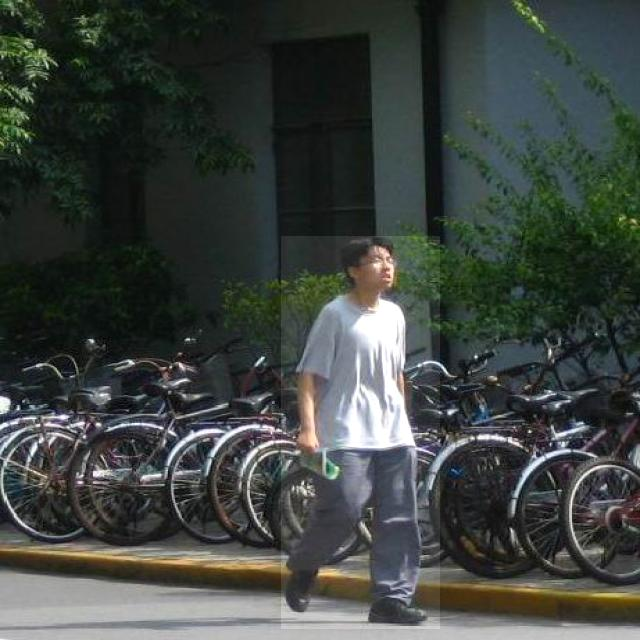with scooter: (281, 236, 440, 629)
